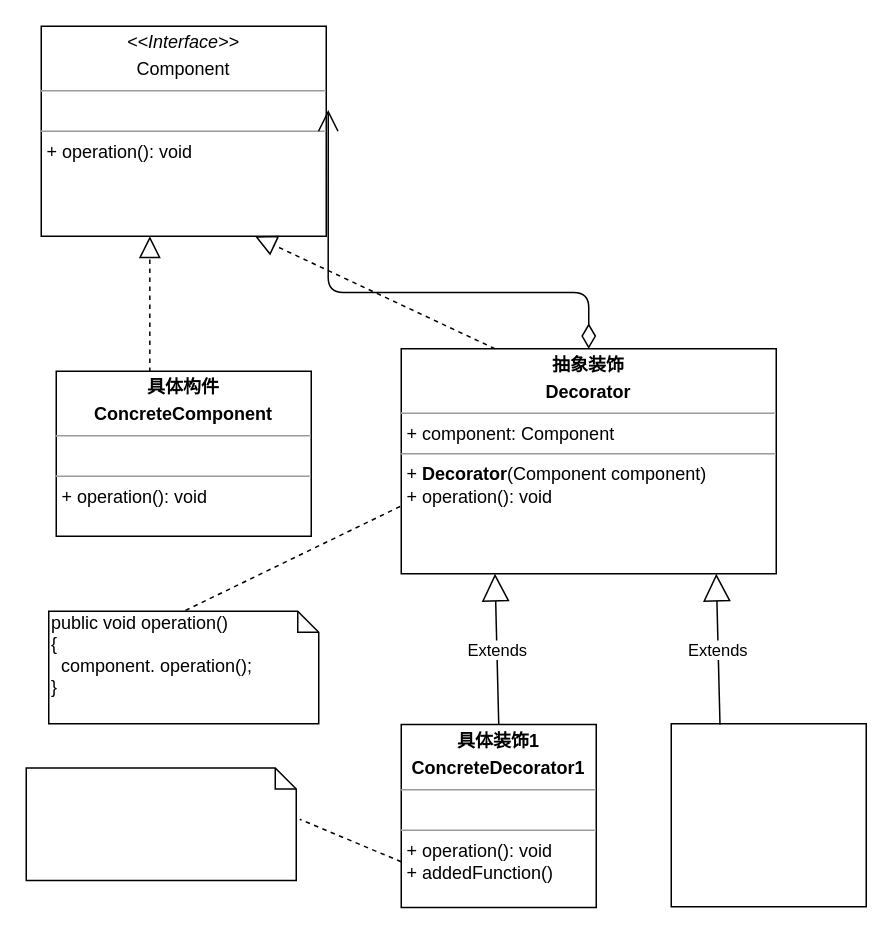
This 893x935 diagram has some shape labels left out. Here are the shapes that lost their labels. From the top down, the centre of each, then its label:
At (160,823): "public void operation() { super. operation(); addedFunction(); }".
At (768,814): "具体装饰2 ConcreteDecorator2 + operation(): void + addedFunction()".
